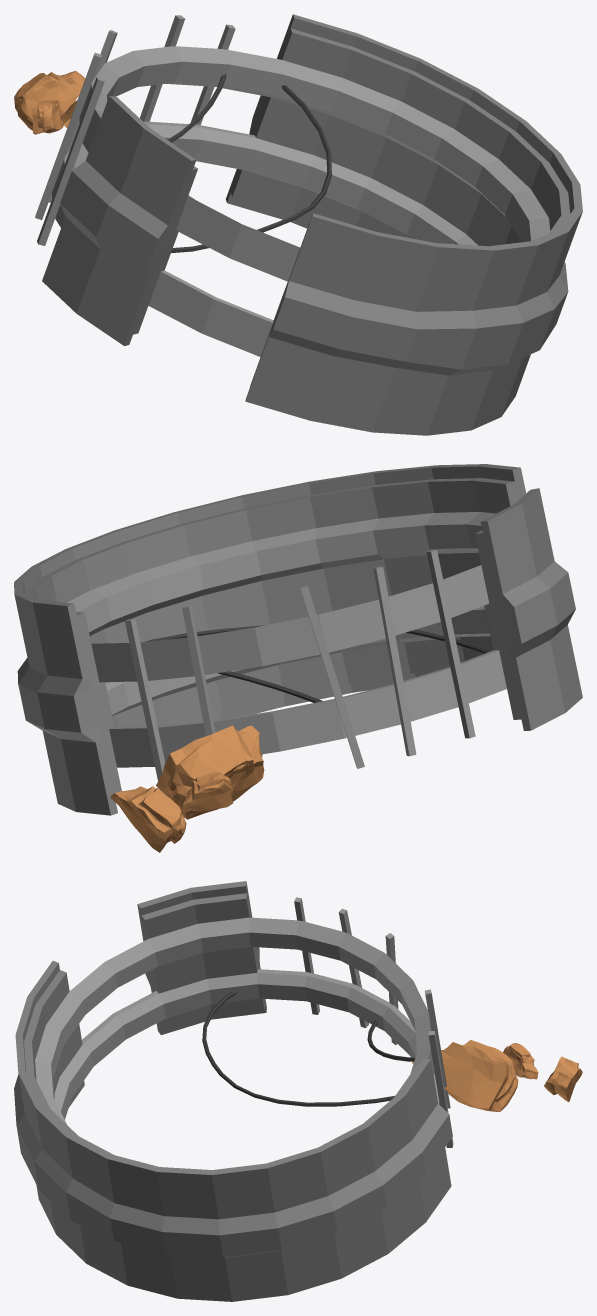
Rendered from enviornmentSet02.fbx.
The picture shows the model from 3 angles, top to bottom: view 1: azimuth 30°, elevation 25°; view 2: azimuth 150°, elevation 25°; view 3: azimuth 270°, elevation 25°; orthographic projection. The views are drawn at different scales.
Visible parts, largest first — view 1: hull, struts, rock0 (6), wire0, rock0 (7); view 2: hull, struts, rock0 (5), rock0 (6), rock0 (7), wire0, wire1; view 3: hull, struts, rock0 (5), wire0, rock0 (6), rock0 (7).
Part boxes in pixels (bbox=[...]): hull: bbox=[42, 14, 582, 435]; struts: bbox=[35, 15, 550, 356]; rock0 (6): bbox=[14, 71, 85, 130]; wire0: bbox=[171, 85, 331, 252]; rock0 (7): bbox=[31, 100, 63, 134]; hull: bbox=[14, 464, 582, 815]; struts: bbox=[66, 512, 506, 780]; rock0 (5): bbox=[156, 725, 264, 819]; rock0 (6): bbox=[110, 786, 186, 852]; rock0 (7): bbox=[183, 771, 233, 812]; wire0: bbox=[145, 625, 490, 653]; wire1: bbox=[217, 671, 322, 702]; hull: bbox=[14, 881, 452, 1301]; struts: bbox=[35, 897, 453, 1147]; rock0 (5): bbox=[412, 1040, 518, 1111]; wire0: bbox=[202, 991, 394, 1106]; rock0 (6): bbox=[544, 1056, 582, 1102]; rock0 (7): bbox=[503, 1043, 538, 1079].
Size of the model in its own units: 5.01 by 3.27 by 6.19.
